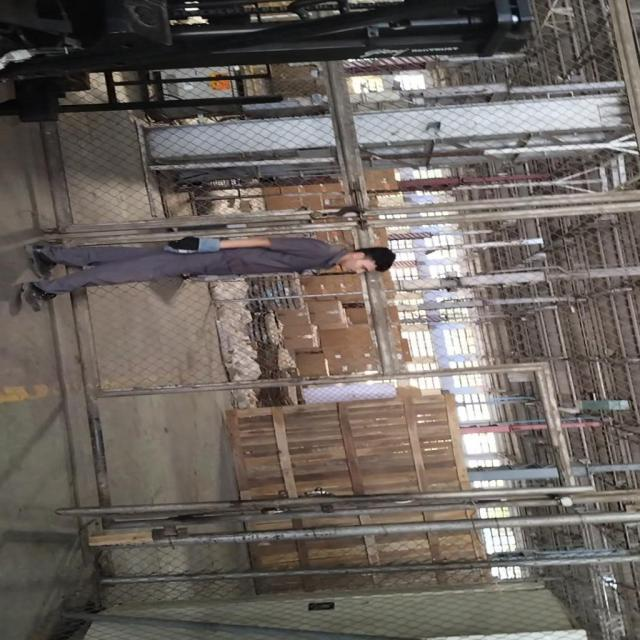Gloves-Detection: (166, 232, 220, 256)
